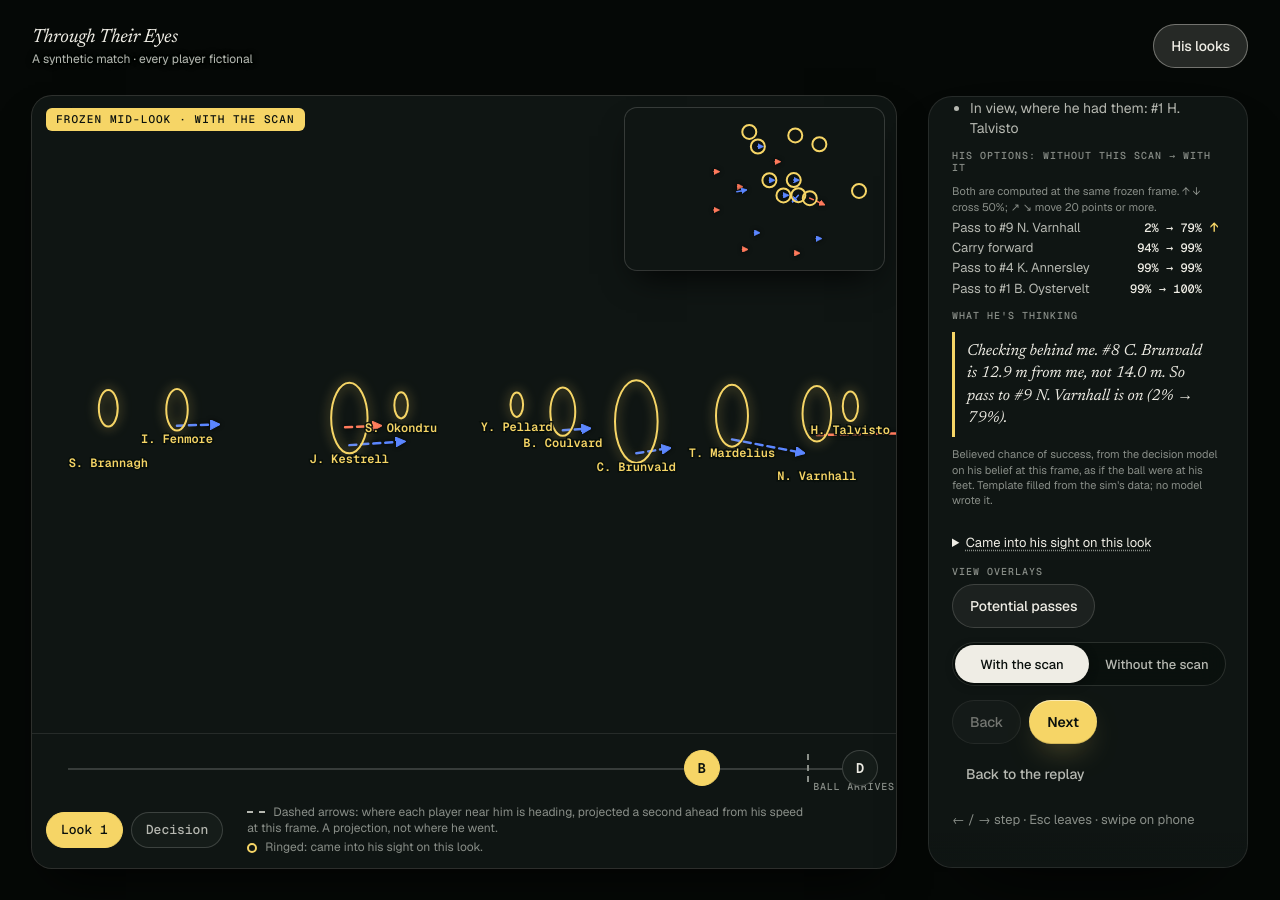
it: His looks: the marks › dims the board at his decision but round exactly two players, with no blur
(page scrolled)
Click the button "Next" at {"x": 1063, "y": 722}, box [1029,700,1097,744]
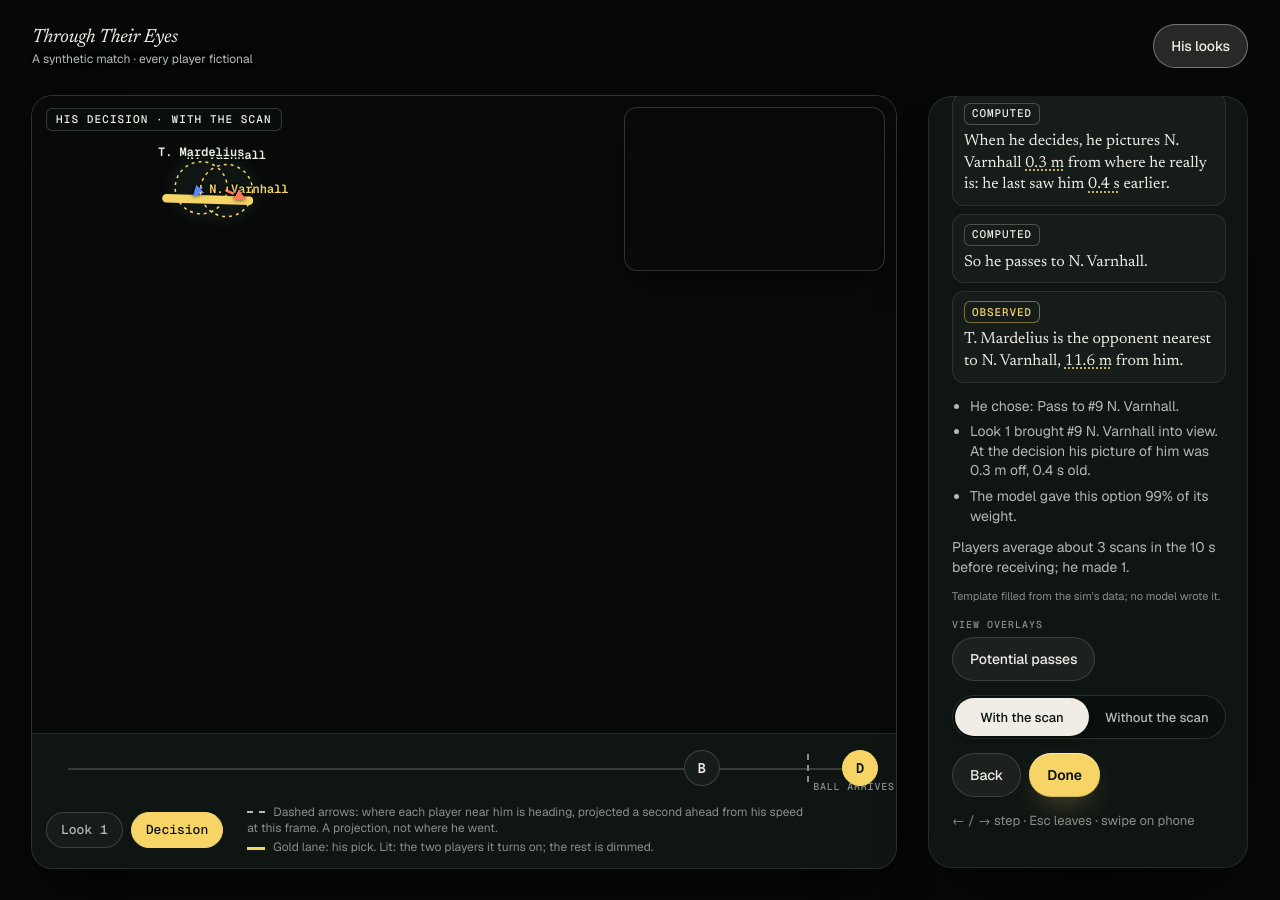
Expected: the number of elements with class "ss-focus" is 1, [32,96,896,733]
